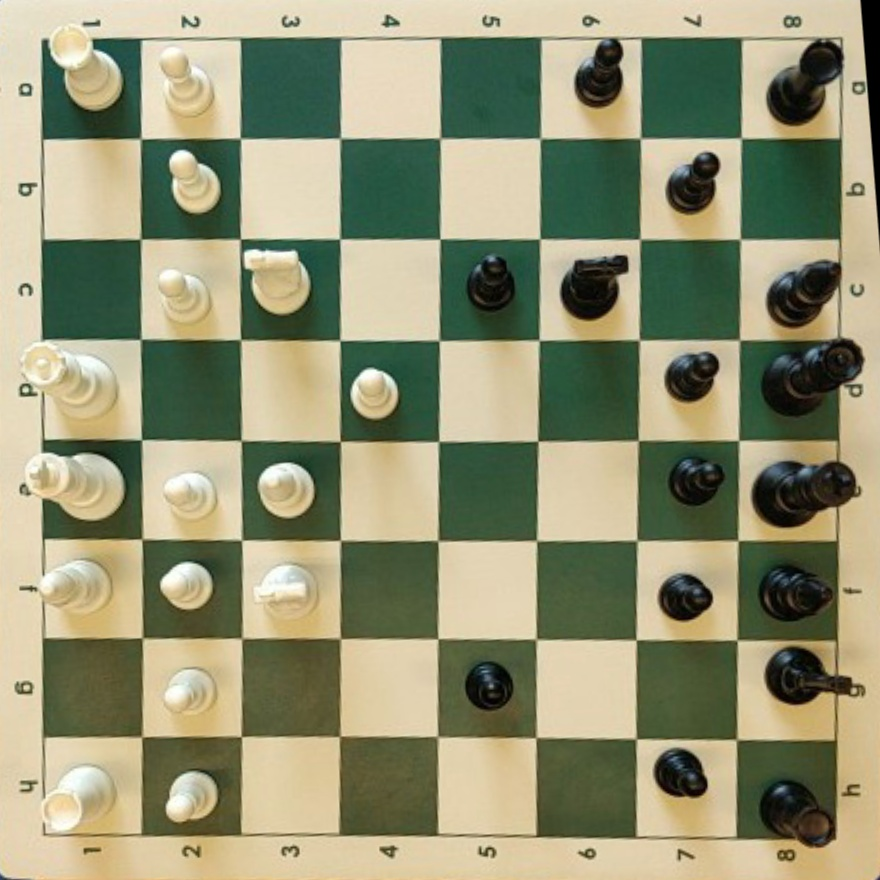black-bishop: (760, 565, 834, 620), (761, 262, 819, 318)
black-king: (753, 460, 858, 526)
black-knight: (766, 648, 865, 704), (560, 254, 629, 319)
black-pawn: (575, 37, 624, 106), (661, 462, 719, 518), (667, 152, 720, 212), (665, 352, 720, 401), (467, 254, 515, 310), (655, 749, 708, 798), (659, 573, 713, 620), (465, 661, 513, 710)
black-queen: (763, 339, 864, 415)
black-rook: (767, 39, 842, 124), (761, 779, 834, 847)
white-bishop: (37, 559, 111, 613), (257, 462, 315, 519)
white-king: (20, 451, 125, 520)
white-knight: (244, 252, 310, 315), (254, 563, 317, 619)
white-pawn: (159, 48, 213, 117), (167, 149, 221, 214), (164, 770, 218, 824), (158, 269, 211, 324), (162, 470, 216, 520), (159, 561, 213, 610), (350, 368, 399, 419), (163, 667, 215, 714)
white-queen: (19, 344, 118, 418)
white-rook: (48, 27, 124, 112), (41, 764, 115, 834)
